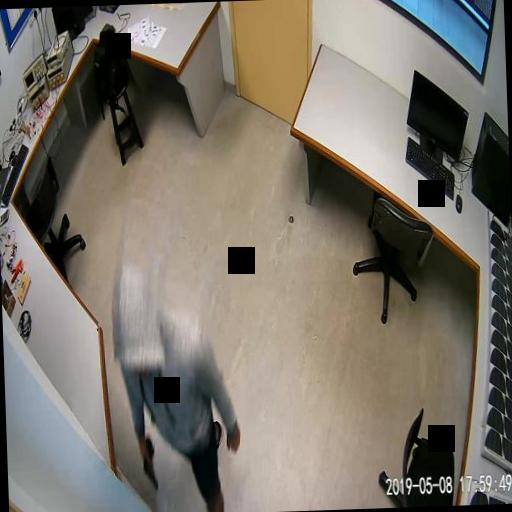Handgun: (139, 434, 157, 490)
